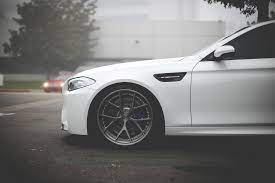car: (58, 17, 275, 147)
